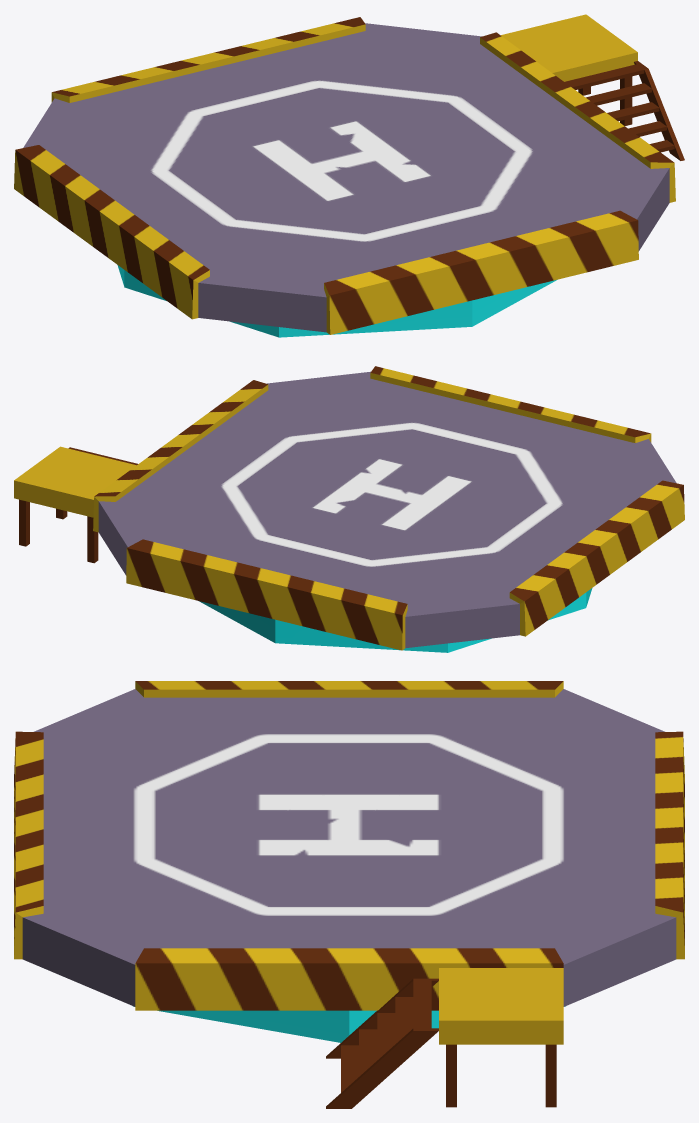
File: Prop_Helipad_01.fbx
3 views of the same model, one above another, from view 1: azimuth 30°, elevation 25°; view 2: azimuth 150°, elevation 25°; view 3: azimuth 270°, elevation 25° (orthographic). The views are drawn at different scales.
Parts seen in each view (by area): view 1: Prop_Helipad_01; view 2: Prop_Helipad_01; view 3: Prop_Helipad_01.
Boxes of the visible parts, box(x1,y1,x2,y2) form: Prop_Helipad_01: box(14, 14, 684, 337); Prop_Helipad_01: box(14, 366, 684, 652); Prop_Helipad_01: box(14, 681, 684, 1108).
Size of the model in its own units: 486 by 64.98 by 411.
